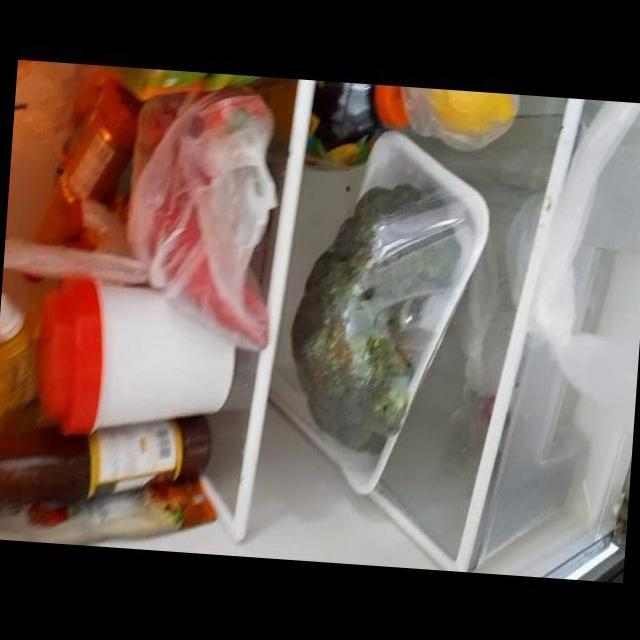Brocoli: (284, 185, 459, 458)
